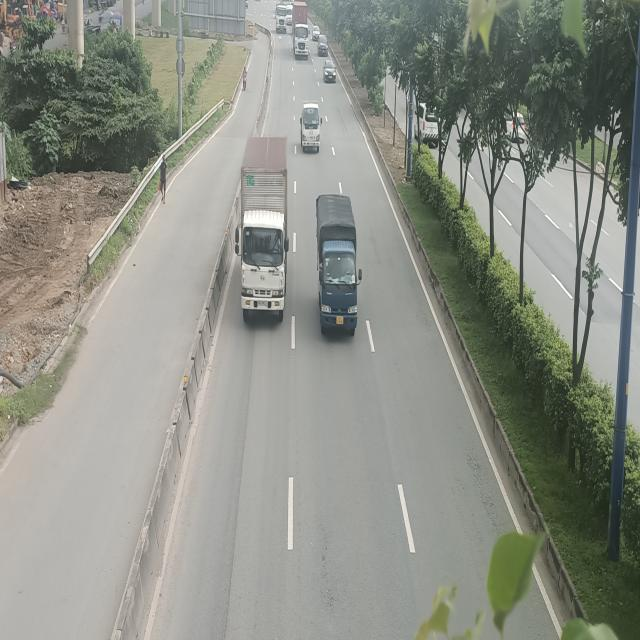car: (324, 60, 336, 83), (317, 34, 328, 57)
container: (292, 1, 310, 59), (276, 5, 286, 34)
truck: (235, 134, 288, 318), (316, 193, 362, 335), (301, 102, 322, 152)
